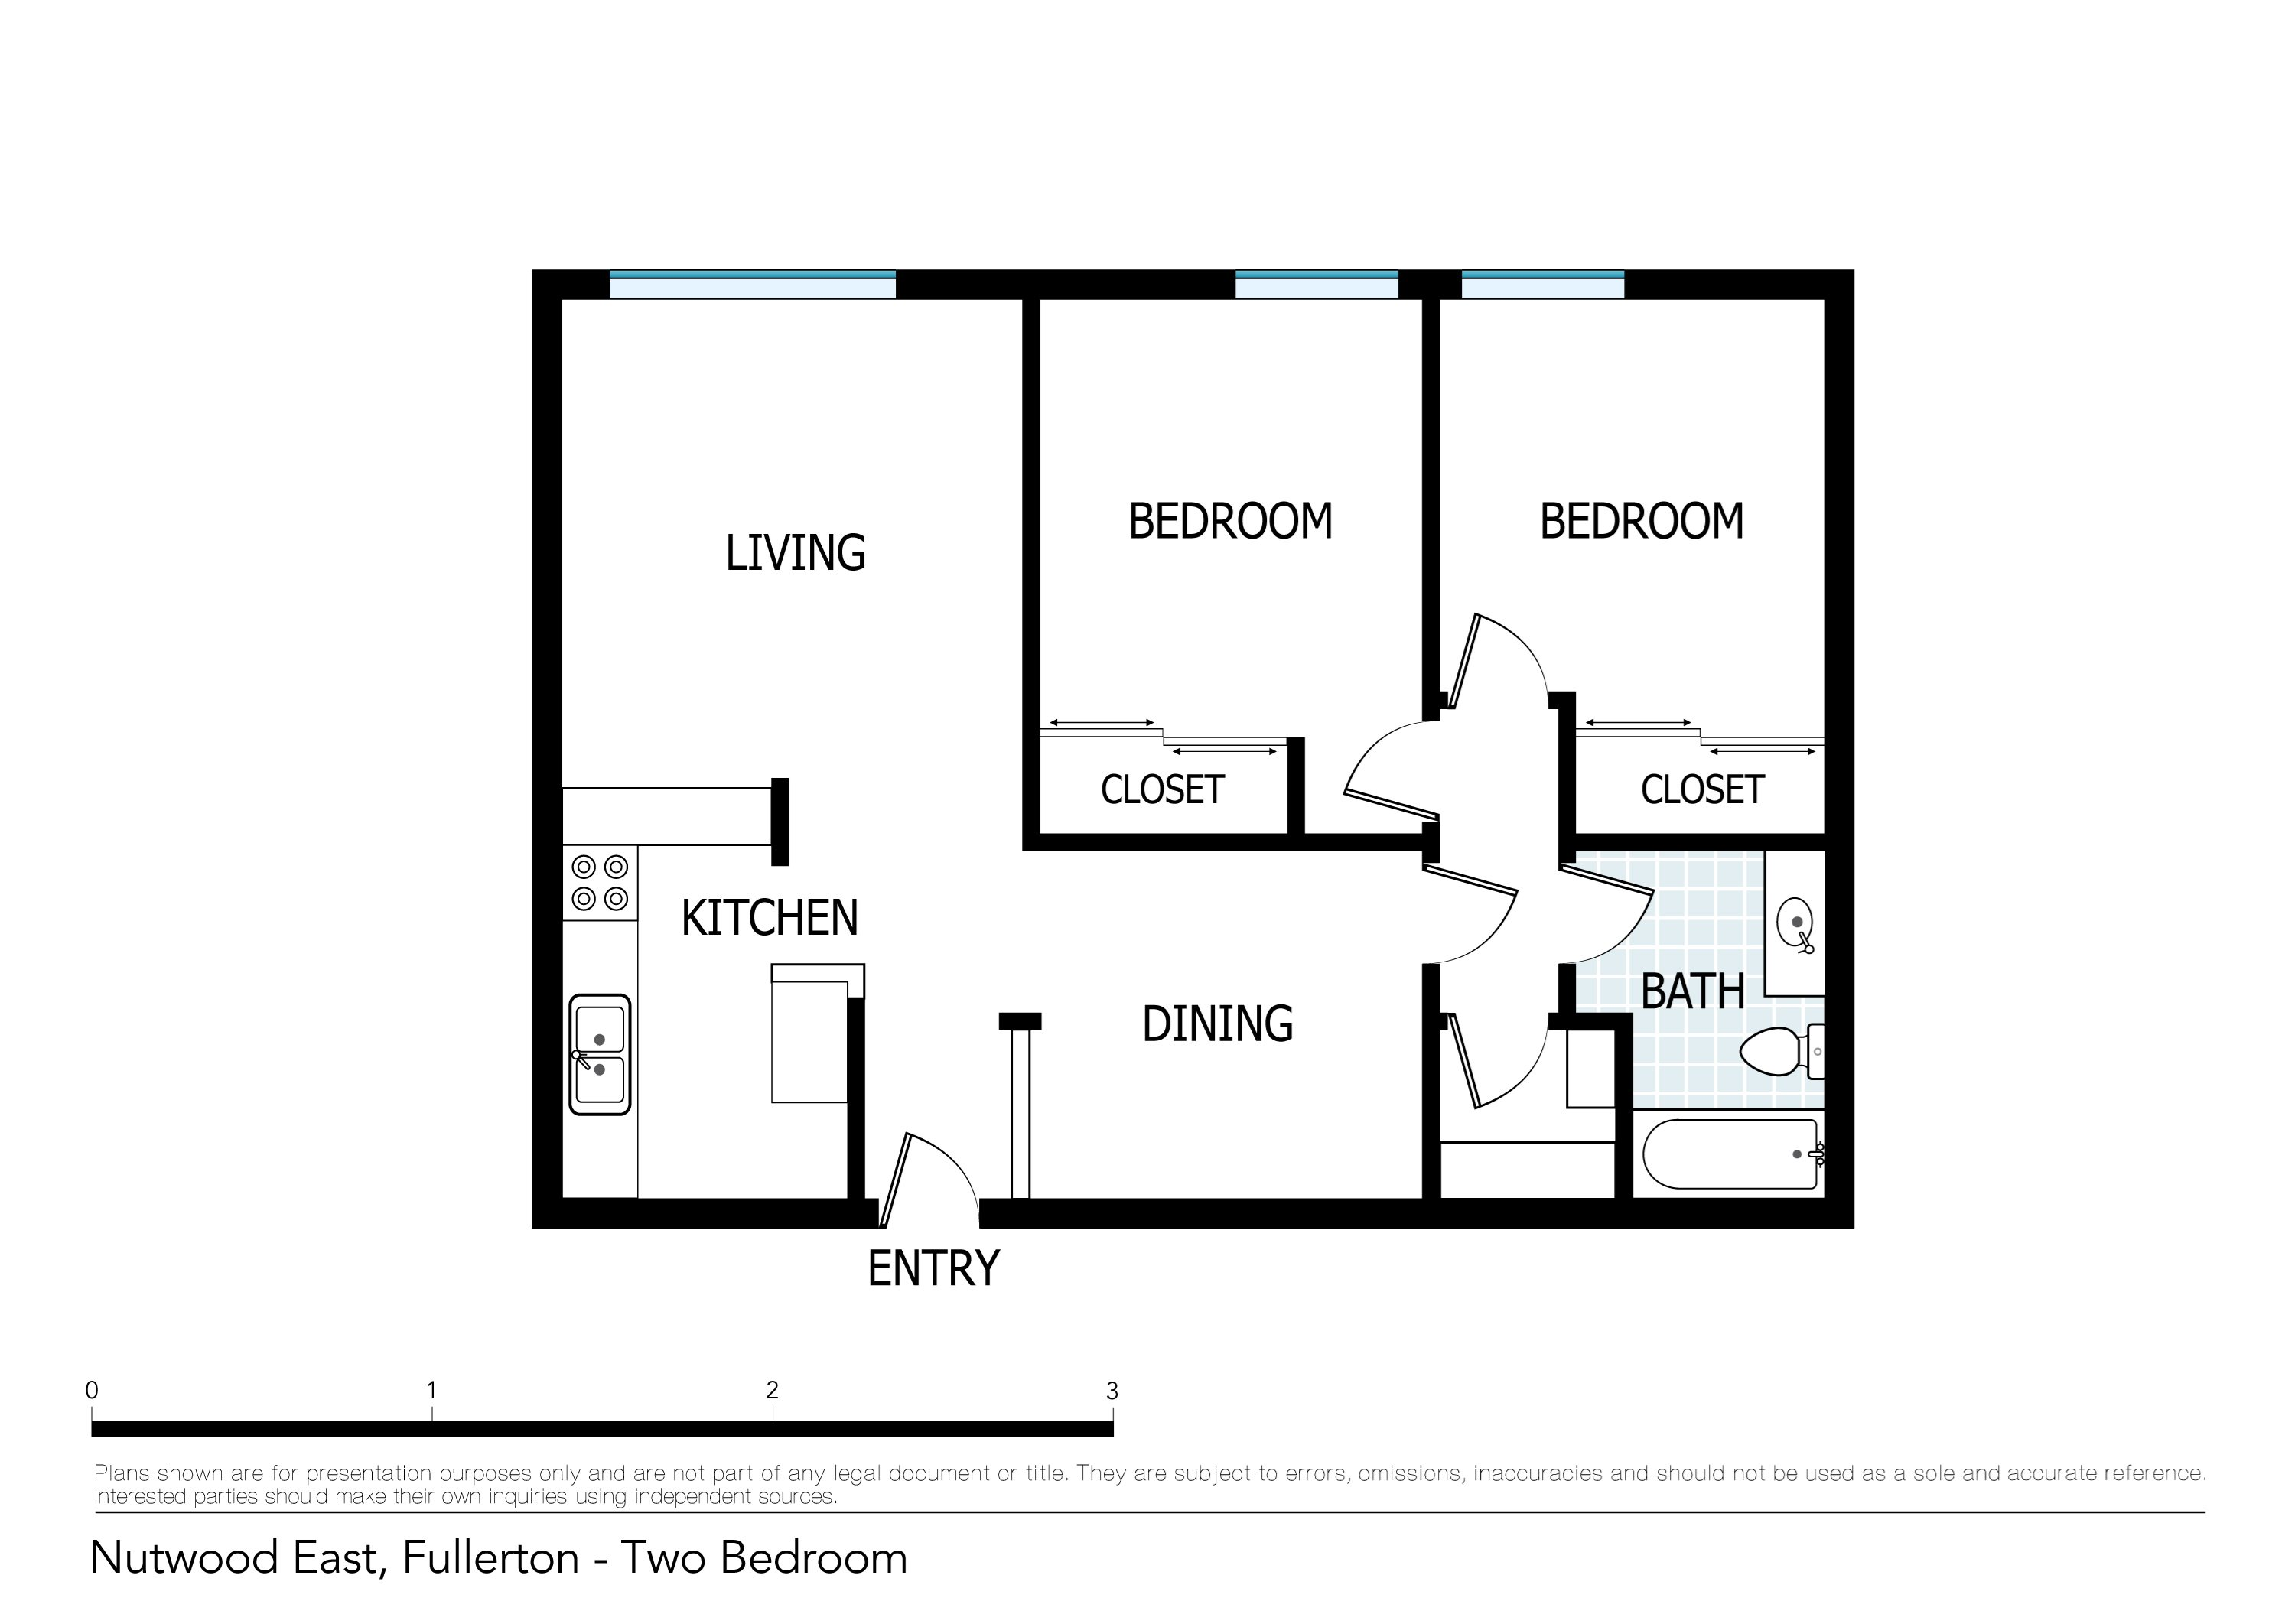door: (1448, 603, 1560, 694), (1323, 717, 1418, 819), (1446, 861, 1529, 974), (1452, 1028, 1555, 1116), (1580, 863, 1664, 965), (886, 1127, 975, 1204)
